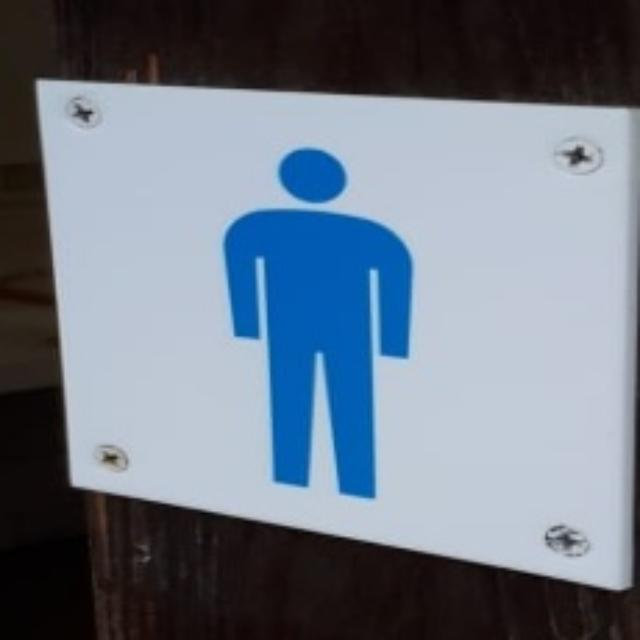wc nam: (39, 81, 634, 587)
